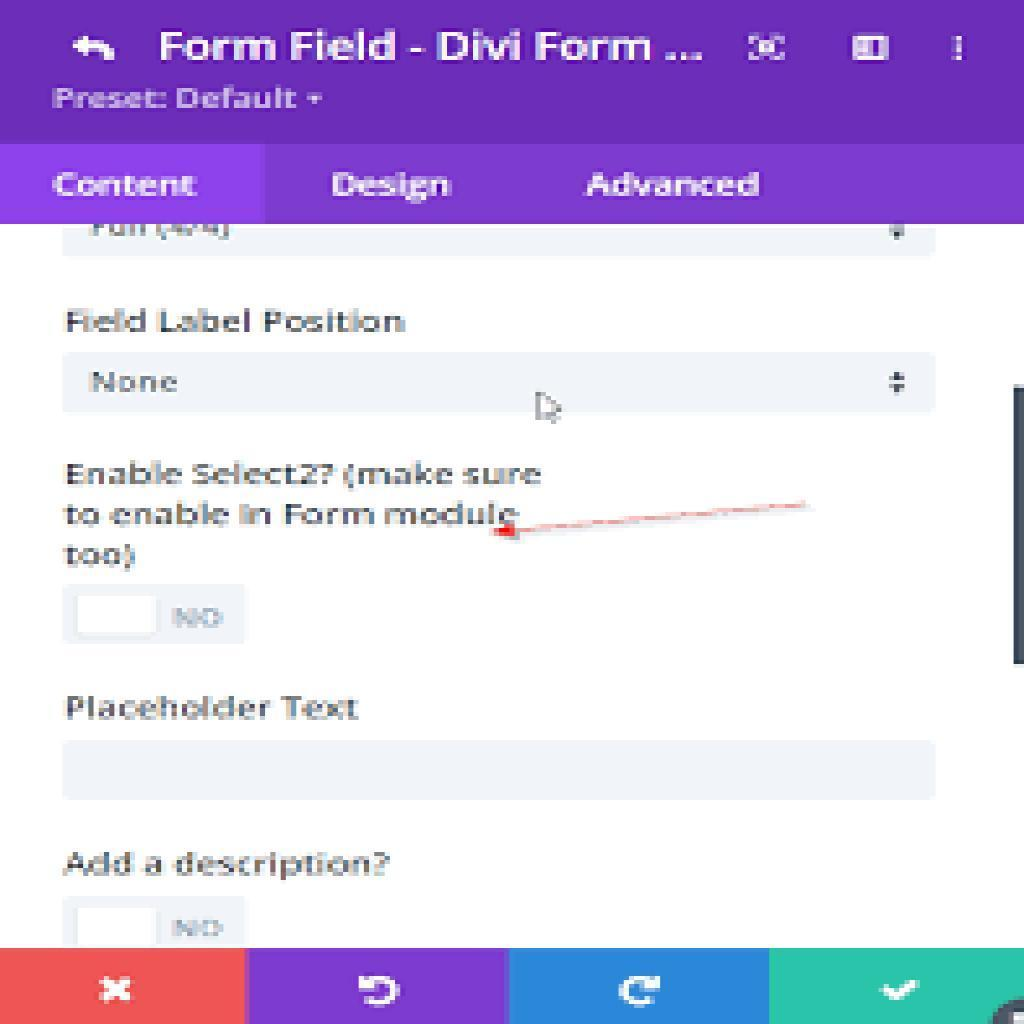button: (2, 148, 267, 225), (247, 950, 510, 1024), (509, 950, 771, 1024), (770, 948, 1024, 1024), (2, 950, 248, 1024)
dropdown: (64, 351, 938, 417), (51, 88, 332, 115)
icon: (63, 743, 933, 802), (745, 31, 792, 67), (74, 35, 122, 70), (852, 32, 891, 63), (952, 30, 969, 63)
label: (157, 25, 712, 78), (61, 844, 396, 887), (60, 684, 370, 730), (61, 304, 414, 343), (587, 168, 773, 208), (330, 170, 457, 205)
switch: (64, 584, 248, 647), (62, 897, 247, 949)
